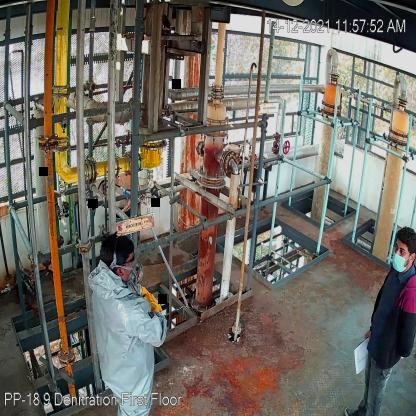no_goggles: (394, 241, 408, 258)
